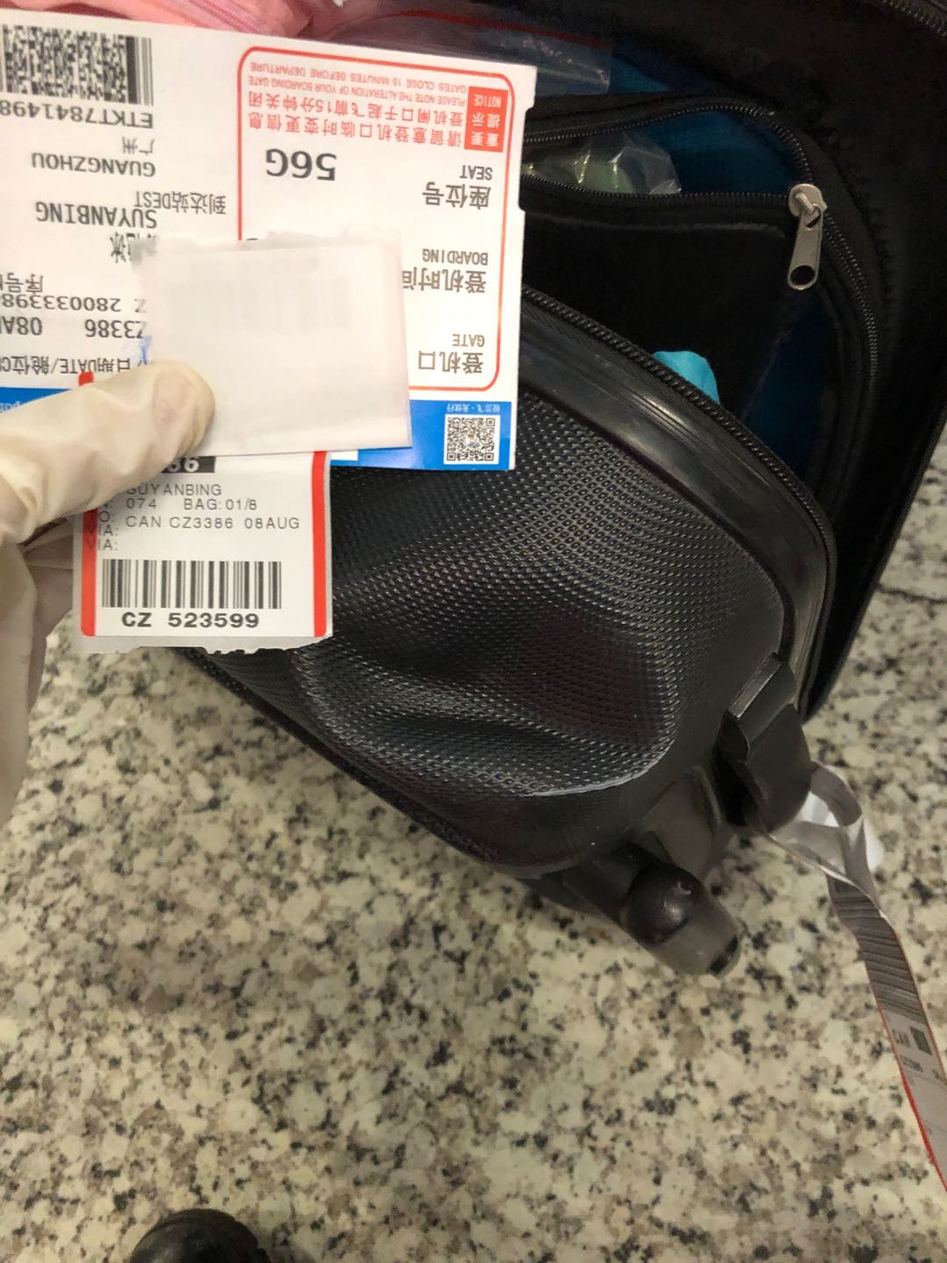rupture: (292, 567, 682, 801)
scratch: (523, 737, 675, 798)
